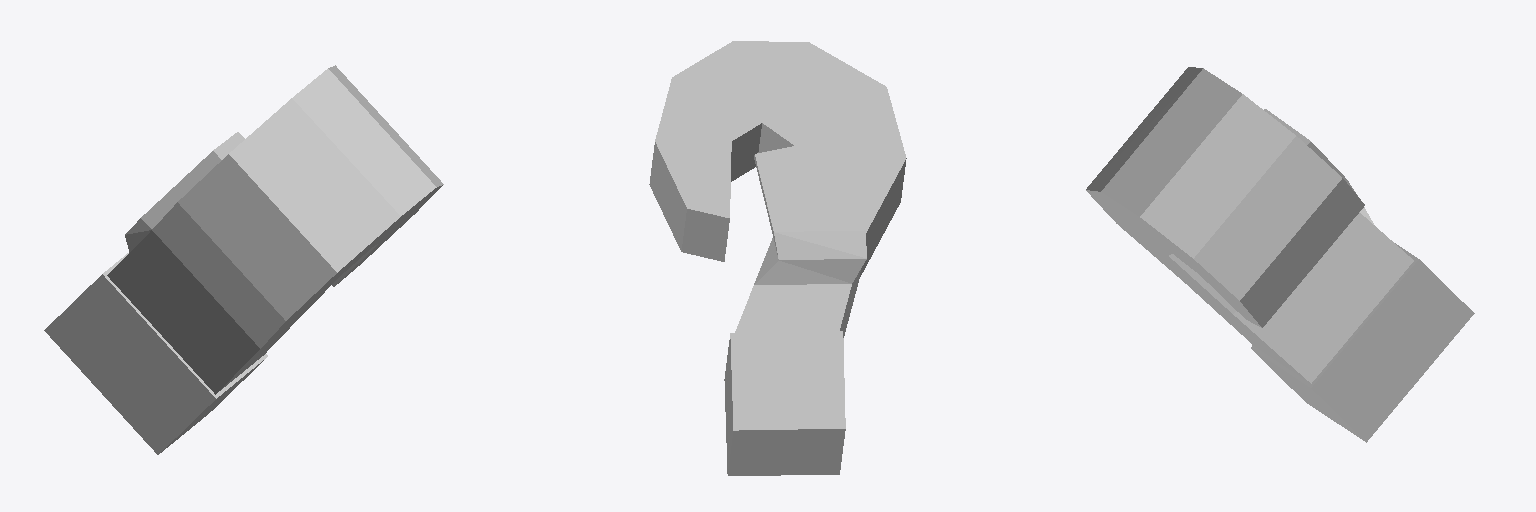
Rendered from rightHand.obj.
3 renders of one model, left to right at view 1: azimuth 30°, elevation 25°; view 2: azimuth 150°, elevation 25°; view 3: azimuth 270°, elevation 25°, orthographic.
Parts seen in each view (by area): view 1: 立方体_立方体.002; view 2: 立方体_立方体.002; view 3: 立方体_立方体.002.
Boxes of the visible parts, x1=… form: 立方体_立方体.002: x1=44, y1=65, x2=443, y2=454; 立方体_立方体.002: x1=649, y1=41, x2=906, y2=475; 立方体_立方体.002: x1=1086, y1=67, x2=1474, y2=442.
Bounding box in the file's own units: 2.9 × 3.61 × 3.38.